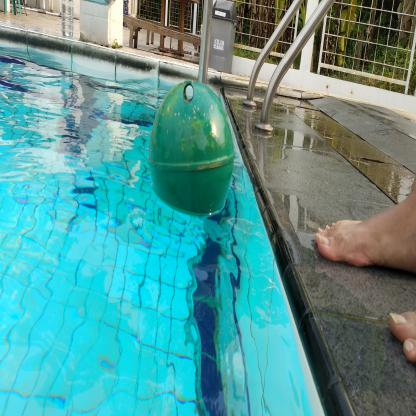green_buoy: (146, 75, 240, 221)
